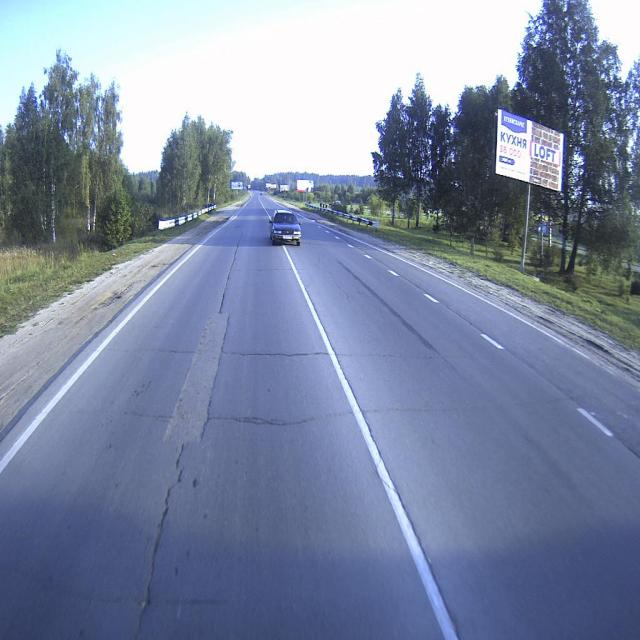road: (0, 192, 640, 639)
